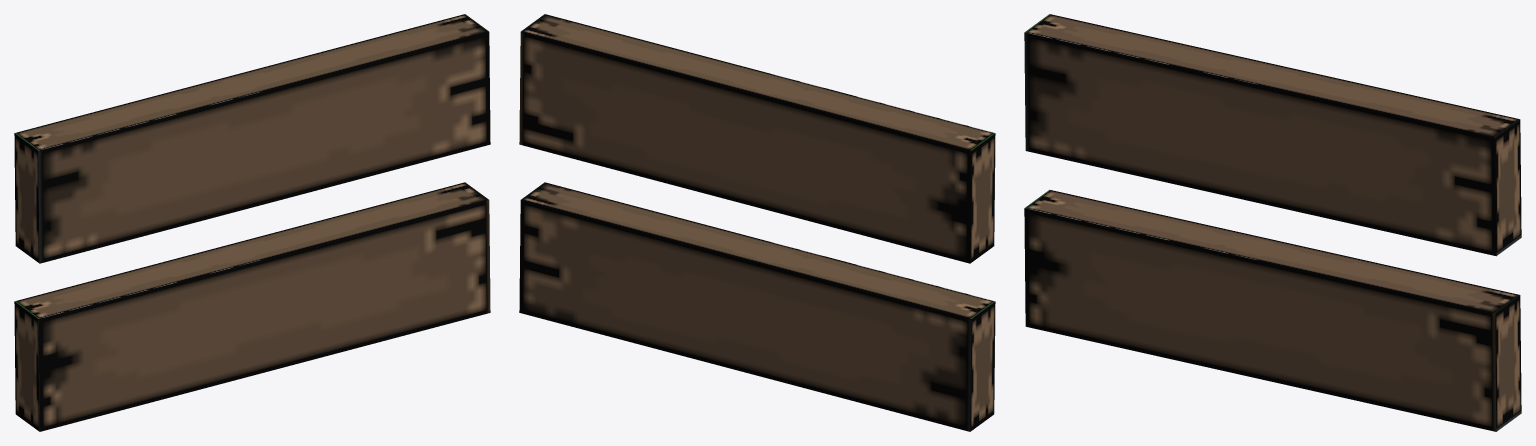
The model's file is deco_winter_woodenFence_short.FBX.
3 views of the same model, side by side, from view 1: azimuth 30°, elevation 25°; view 2: azimuth 150°, elevation 25°; view 3: azimuth 330°, elevation 25° (orthographic). The views are drawn at different scales.
Parts seen in each view (by area): view 1: deco_winter_woodenFence_short; view 2: deco_winter_woodenFence_short; view 3: deco_winter_woodenFence_short.
Boxes of the visible parts, x1,y1,x2,y2 form: deco_winter_woodenFence_short: (14,14,490,431); deco_winter_woodenFence_short: (519,14,995,431); deco_winter_woodenFence_short: (1024,14,1521,431).
Size of the model in its own units: 2.09 by 1.28 by 0.1931.
Materials: 1 (1 with a texture image).
